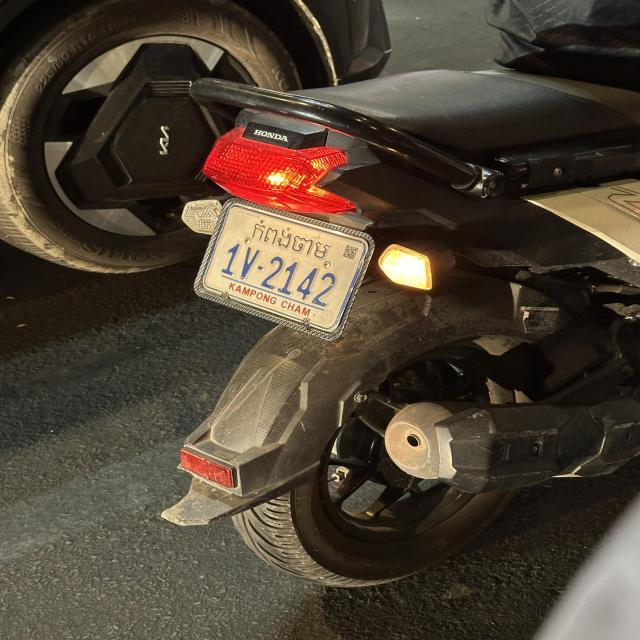Kampong_Cham: (250, 217, 330, 263)
